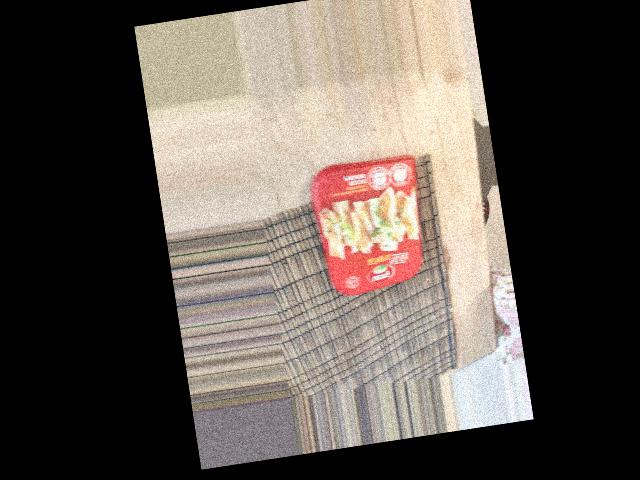cheese: (280, 225, 415, 335)
